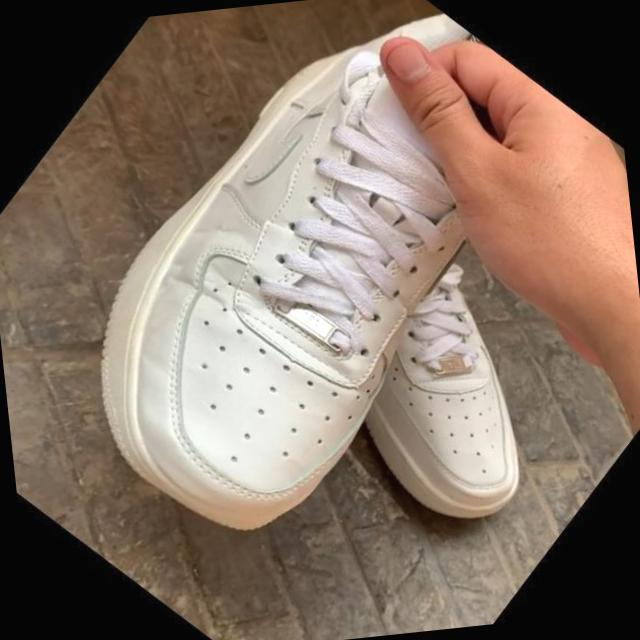nike_fake_airforce: (0, 0, 632, 586), (256, 211, 626, 578)
